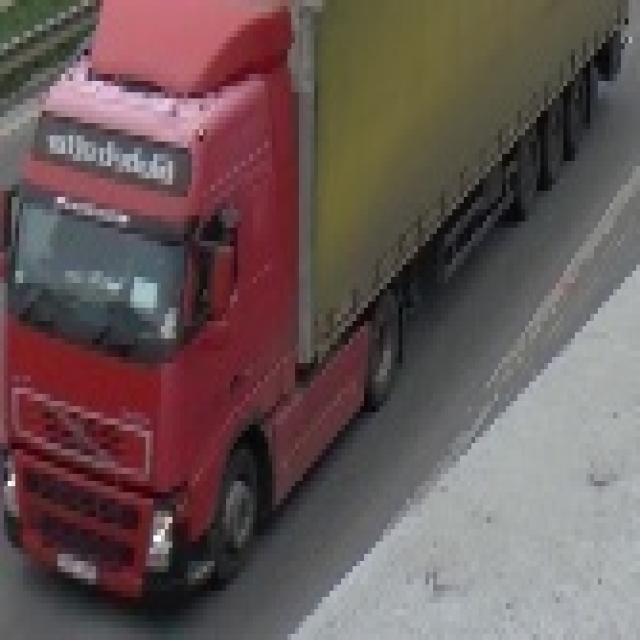TRUCK: (2, 0, 596, 615)
